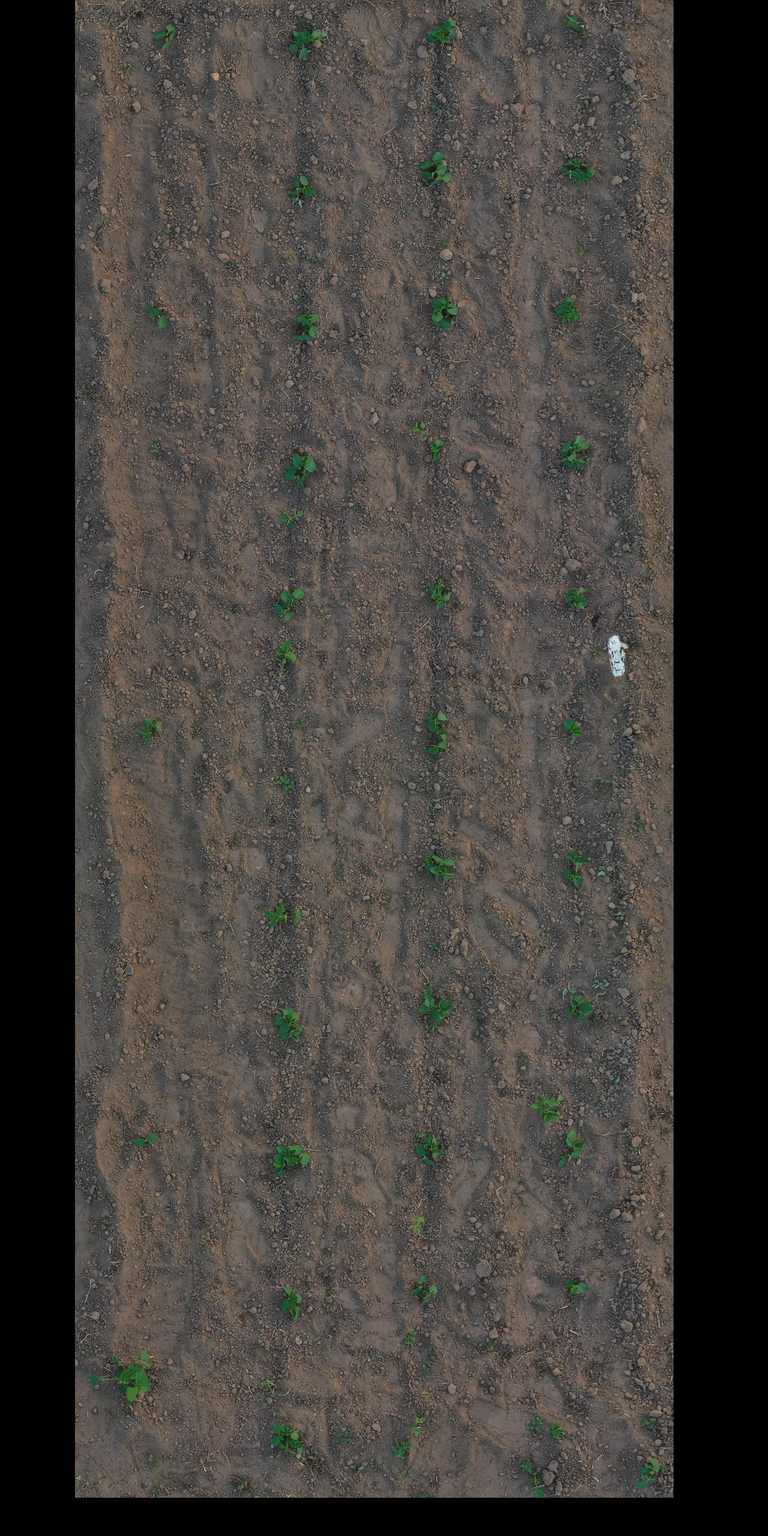s: (89, 1350, 151, 1403), (635, 1458, 668, 1491), (262, 903, 303, 928), (530, 1093, 564, 1123), (274, 640, 297, 680), (567, 434, 590, 462), (279, 508, 304, 529), (280, 588, 305, 608), (428, 720, 448, 745), (563, 1278, 590, 1296), (564, 851, 586, 873), (557, 1150, 583, 1168), (118, 1363, 144, 1381), (272, 603, 295, 623), (563, 718, 583, 741), (415, 1143, 435, 1166), (419, 151, 444, 169), (138, 720, 156, 745), (282, 1152, 310, 1168), (148, 306, 168, 328), (558, 166, 587, 181), (420, 164, 447, 180), (429, 865, 454, 882), (274, 1005, 294, 1026), (411, 420, 430, 442), (572, 995, 594, 1014), (417, 1004, 440, 1022), (561, 869, 584, 887), (436, 998, 453, 1022), (131, 1132, 158, 1147), (279, 1024, 304, 1040), (575, 166, 596, 185), (285, 453, 304, 474), (299, 460, 317, 482), (428, 172, 452, 188), (282, 1286, 298, 1310), (410, 1275, 429, 1295), (437, 298, 458, 316), (288, 1292, 302, 1319), (299, 175, 316, 197), (426, 712, 448, 729), (421, 1284, 438, 1306), (153, 24, 176, 40), (530, 1475, 546, 1498), (555, 297, 574, 316), (431, 578, 446, 602), (286, 1435, 304, 1455), (428, 1135, 442, 1160), (288, 29, 302, 53), (276, 1144, 304, 1156), (287, 175, 302, 197), (426, 740, 448, 755), (296, 34, 309, 59), (301, 319, 318, 338), (435, 591, 452, 610), (300, 29, 323, 43), (430, 440, 444, 463), (284, 472, 304, 488), (260, 1378, 276, 1398), (280, 1424, 300, 1440), (564, 15, 585, 30), (428, 318, 452, 331), (432, 854, 456, 867), (430, 22, 452, 36), (272, 1154, 286, 1176), (557, 306, 574, 324), (280, 1304, 297, 1322), (577, 1007, 596, 1023), (144, 717, 164, 732), (443, 17, 456, 40), (292, 328, 314, 341), (564, 998, 578, 1018), (563, 1129, 577, 1149), (426, 33, 451, 44), (559, 450, 574, 468), (564, 157, 588, 168), (271, 1423, 282, 1447), (280, 1011, 300, 1024), (122, 1369, 142, 1382), (561, 438, 578, 453), (432, 299, 443, 322), (297, 313, 320, 324), (278, 588, 289, 611), (425, 864, 439, 882), (424, 986, 435, 1008), (290, 455, 314, 465), (572, 456, 588, 471), (564, 593, 588, 603), (276, 1442, 294, 1455), (162, 32, 174, 51), (411, 1216, 425, 1232), (567, 586, 590, 595), (566, 601, 588, 610), (572, 1139, 586, 1152), (422, 1135, 432, 1151), (548, 1421, 560, 1434), (552, 1424, 565, 1436), (425, 852, 434, 866), (407, 1426, 422, 1434), (429, 581, 435, 599), (571, 308, 579, 321), (153, 440, 164, 449), (570, 297, 577, 308), (415, 1417, 426, 1424), (151, 449, 161, 456), (552, 1434, 563, 1440)
